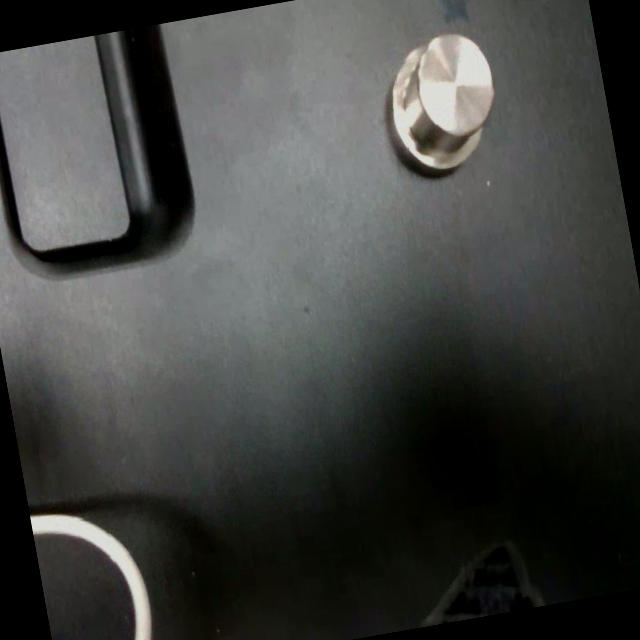sensor: (376, 24, 508, 179)
